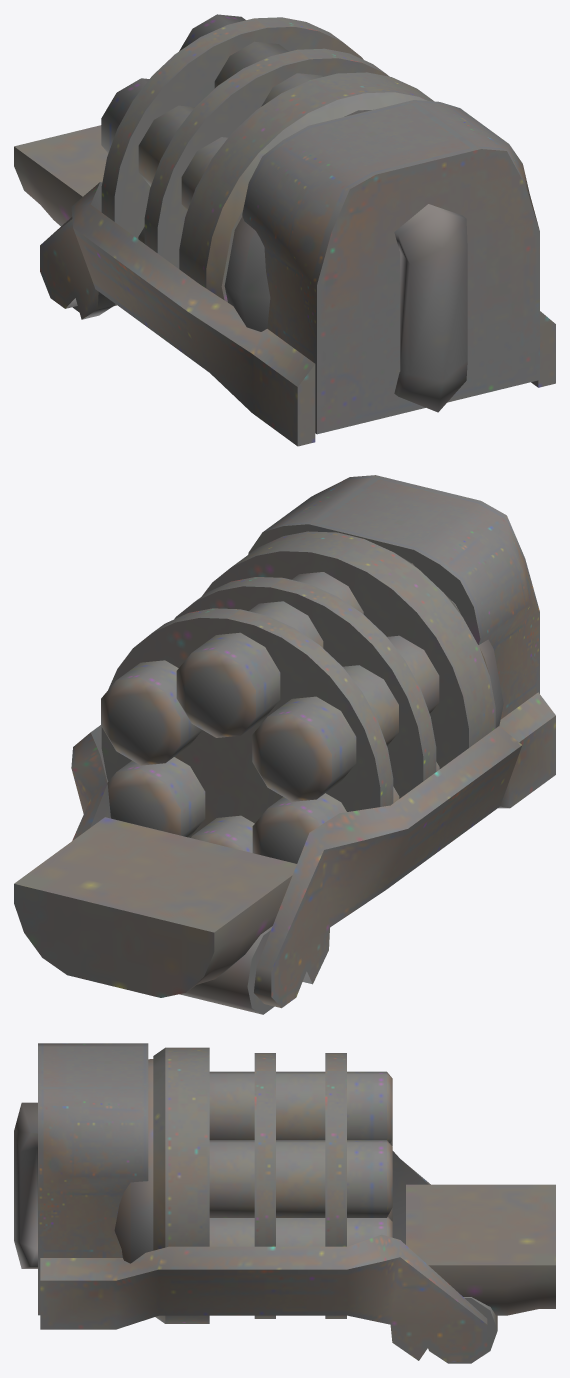
Rendered from mag1.obj.
3 renders of one model, top to bottom at view 1: azimuth 30°, elevation 25°; view 2: azimuth 150°, elevation 25°; view 3: azimuth 270°, elevation 25°, orthographic. The views are drawn at different scales.
Parts seen in each view (by area): view 1: mag1; view 2: mag1; view 3: mag1.
Boxes of the visible parts, x1,y1,x2,y2 form: mag1: (14, 14, 555, 446); mag1: (14, 475, 555, 1014); mag1: (14, 1043, 555, 1363).
Bounding box in the file's own units: 12.3 × 11.2 × 20.91.
